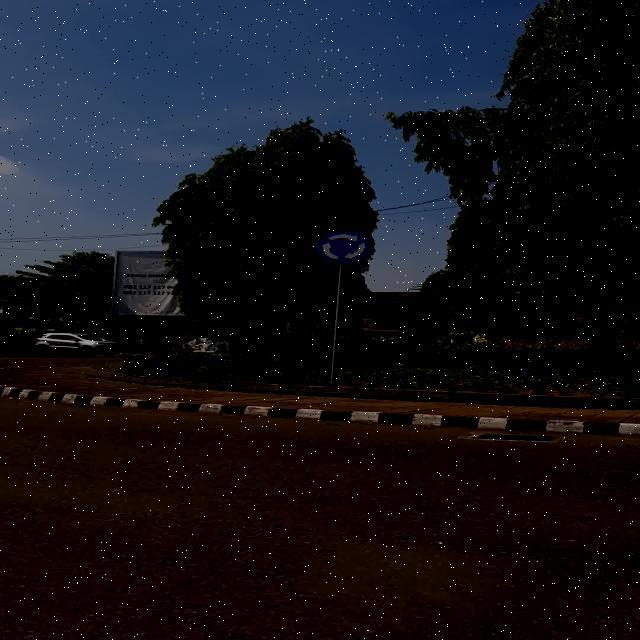Ikuti Bundaran: (314, 229, 371, 264)
